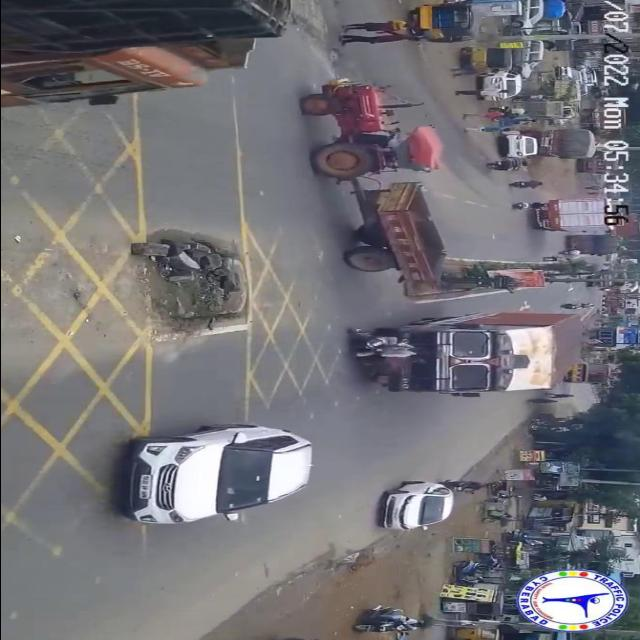accident: (337, 311, 591, 401)
non_accident: (448, 40, 555, 104), (496, 122, 608, 166)
